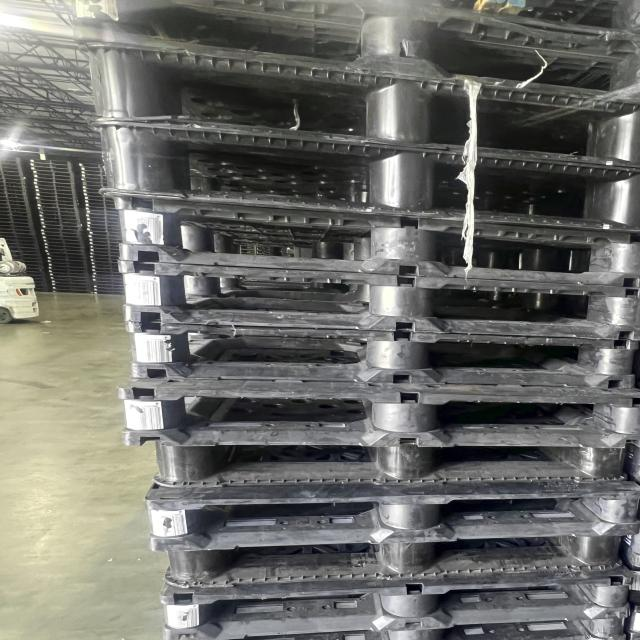igps: (73, 37, 640, 174), (84, 115, 640, 238), (64, 0, 640, 111), (94, 186, 640, 292), (110, 252, 640, 344), (112, 374, 640, 453), (121, 316, 640, 393), (138, 478, 640, 556), (153, 563, 634, 640), (149, 434, 633, 494), (157, 532, 628, 593), (55, 0, 640, 47), (241, 598, 636, 640), (38, 216, 82, 225), (37, 205, 80, 214), (28, 162, 74, 170), (38, 220, 84, 228), (28, 158, 73, 166), (31, 173, 76, 181), (31, 177, 76, 185), (30, 166, 74, 174), (33, 184, 77, 192), (34, 192, 78, 200), (34, 195, 78, 203), (36, 198, 79, 206), (37, 209, 80, 217), (38, 213, 81, 221), (40, 224, 83, 232), (31, 170, 76, 177), (32, 181, 76, 188), (39, 228, 83, 235), (43, 245, 86, 252), (45, 255, 88, 262), (45, 258, 88, 265), (44, 252, 89, 258), (86, 233, 124, 240), (33, 189, 77, 195), (35, 203, 79, 209), (40, 231, 84, 237), (42, 242, 86, 248), (42, 248, 86, 254), (47, 272, 91, 278), (49, 282, 93, 288), (41, 235, 84, 241), (42, 238, 85, 244), (47, 268, 90, 274), (49, 279, 92, 285), (50, 285, 93, 291), (84, 213, 120, 220), (85, 220, 121, 227), (46, 262, 88, 268), (87, 230, 122, 237), (83, 202, 117, 209), (0, 236, 39, 242), (0, 232, 38, 238), (0, 203, 32, 210), (85, 224, 122, 230), (85, 228, 122, 234), (0, 229, 37, 235), (48, 276, 92, 281), (50, 289, 94, 294), (85, 217, 121, 223), (0, 226, 36, 232), (78, 170, 108, 177), (47, 266, 89, 271), (6, 243, 41, 249), (0, 218, 34, 224), (8, 246, 42, 252), (83, 200, 116, 206), (88, 254, 121, 260), (91, 274, 124, 280), (0, 210, 33, 216), (77, 161, 105, 168), (79, 166, 107, 173), (80, 173, 108, 180), (82, 196, 114, 202), (88, 244, 120, 250), (0, 207, 32, 213), (0, 181, 27, 188), (0, 200, 31, 206), (84, 207, 120, 212), (84, 210, 120, 215), (88, 241, 124, 246), (88, 238, 123, 243), (0, 222, 35, 227), (80, 181, 109, 187), (90, 264, 119, 270), (92, 284, 126, 289), (5, 240, 39, 245), (80, 177, 108, 183), (0, 186, 28, 192), (0, 189, 28, 195), (0, 192, 28, 198), (88, 248, 121, 253), (91, 271, 124, 276), (92, 281, 125, 286), (93, 291, 126, 296), (0, 215, 33, 220), (0, 178, 27, 184), (0, 174, 26, 180), (0, 167, 25, 173), (90, 261, 119, 266), (0, 196, 29, 201), (0, 163, 23, 169), (88, 252, 121, 256), (91, 278, 124, 282), (0, 155, 22, 161), (93, 288, 125, 292), (0, 171, 25, 176), (89, 258, 119, 262), (91, 268, 120, 272), (82, 192, 105, 197), (0, 160, 22, 165), (22, 254, 44, 259), (22, 261, 44, 266), (25, 271, 47, 276), (81, 185, 108, 189), (22, 251, 42, 256), (81, 188, 100, 193), (22, 258, 44, 262), (24, 268, 46, 272), (34, 288, 51, 293), (26, 275, 47, 279), (25, 265, 45, 269), (34, 285, 51, 289), (32, 278, 48, 282), (34, 282, 49, 286)
